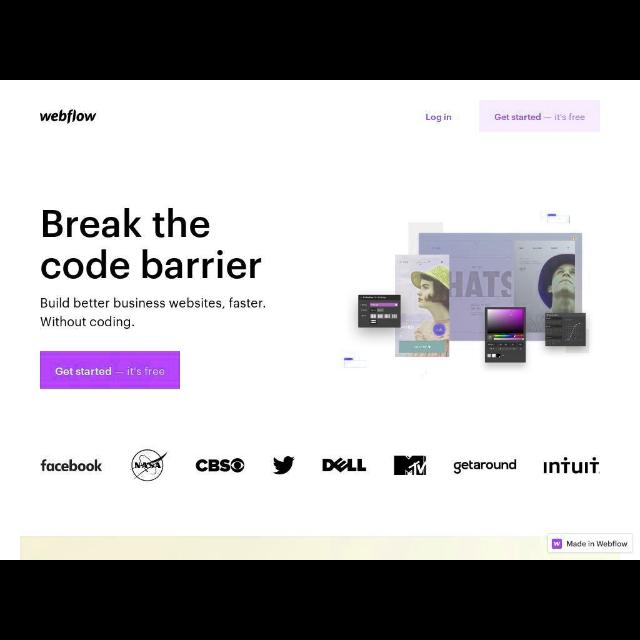backgroundimage: (338, 202, 612, 378)
image: (129, 446, 167, 482), (452, 458, 516, 478), (542, 456, 600, 476), (38, 458, 104, 474), (36, 108, 98, 124), (391, 454, 429, 476), (320, 458, 370, 474), (196, 457, 244, 473), (270, 455, 296, 477), (552, 538, 562, 550)
text: (42, 207, 264, 281), (41, 296, 268, 330), (494, 112, 588, 124), (56, 366, 164, 376), (566, 540, 628, 548), (426, 112, 452, 124)
textbutton: (40, 352, 180, 388), (479, 101, 601, 131), (548, 534, 634, 552)
